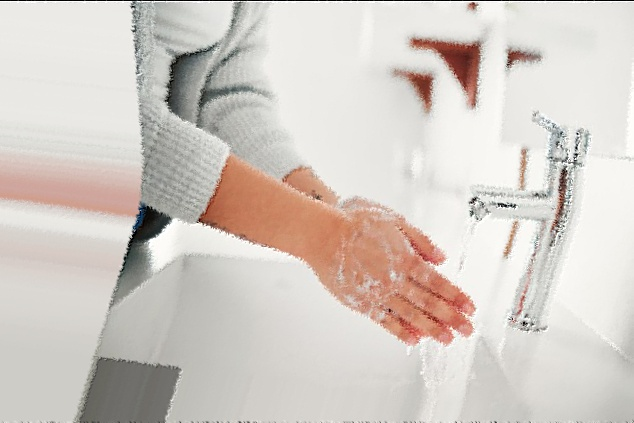washing hand: (236, 2, 633, 415)
